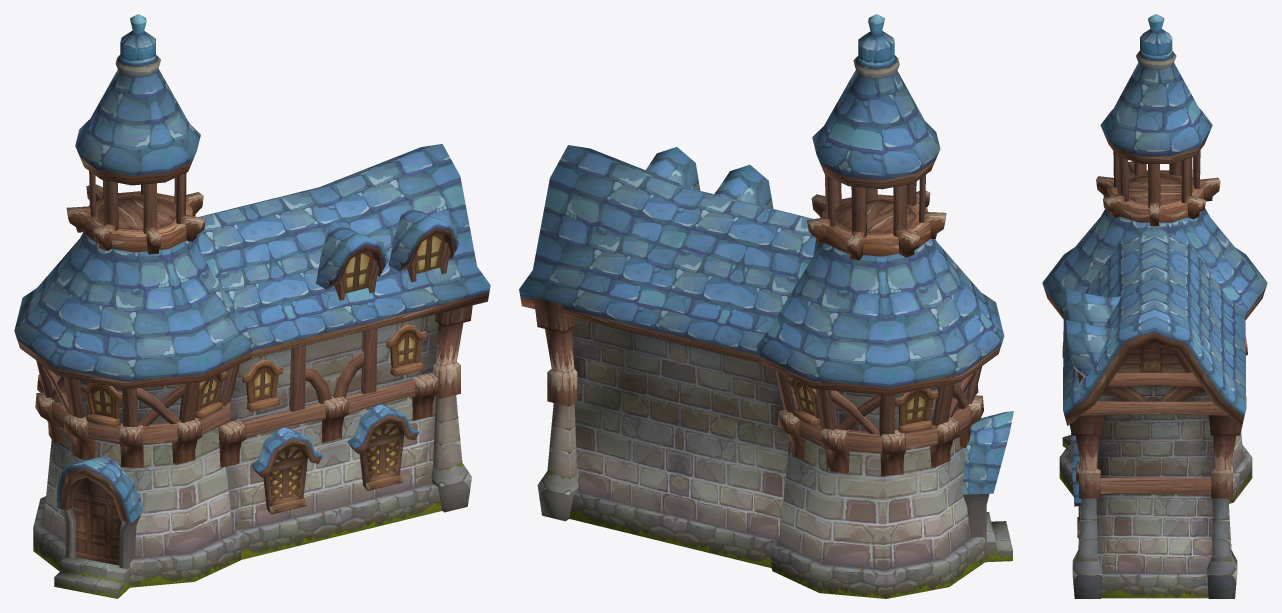
File: Map_06_house03.FBX
The picture shows the model from 3 angles, left to right: view 1: azimuth 30°, elevation 25°; view 2: azimuth 150°, elevation 25°; view 3: azimuth 270°, elevation 25°; orthographic projection. The views are drawn at different scales.
Visible parts, largest first — view 1: Map_06_house03; view 2: Map_06_house03; view 3: Map_06_house03.
Part boxes in pixels (x1,y1,x2,y2): Map_06_house03: (14,14,490,598); Map_06_house03: (519,14,1013,598); Map_06_house03: (1042,14,1267,598).
Bounding box in the file's own units: 919 × 495 × 1124.
